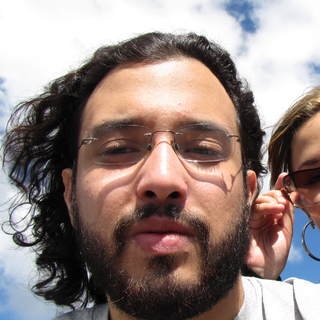eye: (96, 139, 143, 163), (182, 141, 225, 165)
